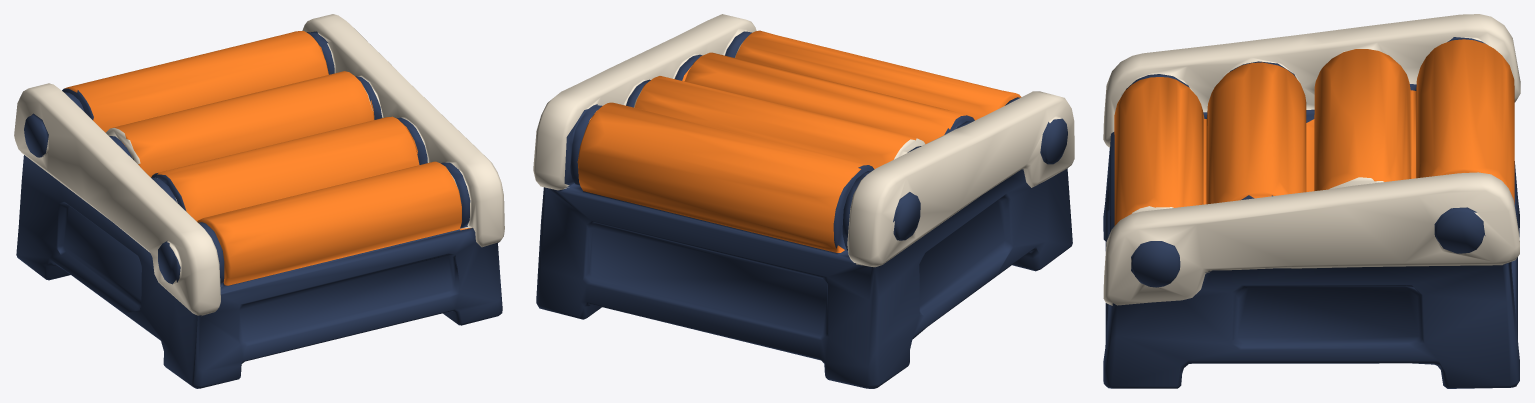
Rendered from cargo-conveyor.glb.
The picture shows the model from 3 angles, left to right: view 1: azimuth 30°, elevation 25°; view 2: azimuth 150°, elevation 25°; view 3: azimuth 270°, elevation 25°; orthographic projection. The views are drawn at different scales.
Parts seen in each view (by area): view 1: compact-loading-conveyor_LOD0; view 2: compact-loading-conveyor_LOD0; view 3: compact-loading-conveyor_LOD0.
Boxes of the visible parts, x1,y1,x2,y2 form: compact-loading-conveyor_LOD0: (14, 14, 504, 388); compact-loading-conveyor_LOD0: (533, 14, 1074, 388); compact-loading-conveyor_LOD0: (1103, 14, 1520, 388).
Size of the model in its own units: 1.58 by 0.8491 by 1.56.
Materials: 1 (1 with a texture image).
